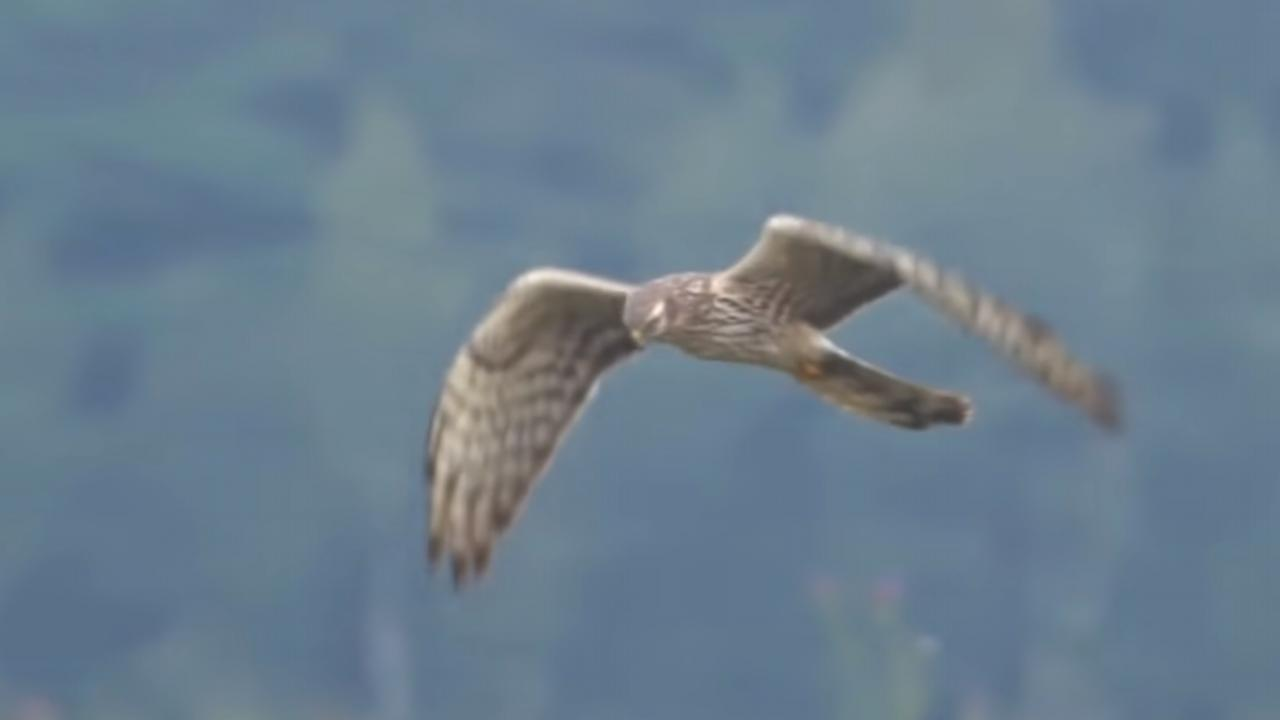Bird: (414, 202, 1146, 606)
